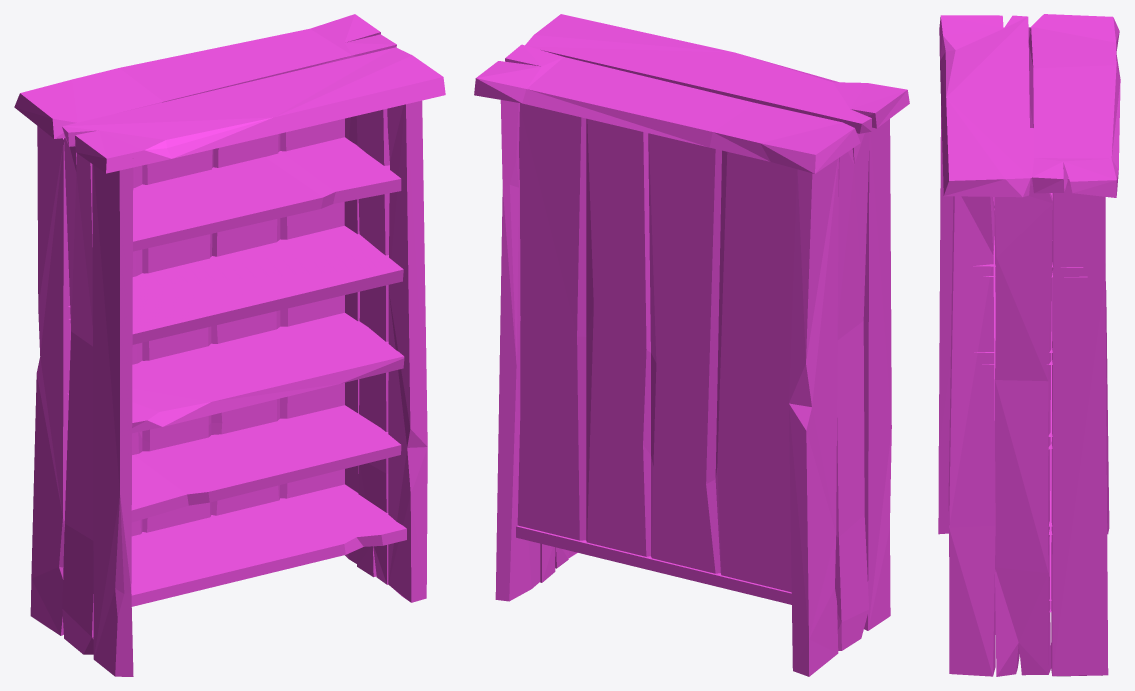
File: SM_Shelf_Standing_Tall_C_Fantasy.fbx
3 views of the same model, side by side, from view 1: azimuth 30°, elevation 25°; view 2: azimuth 150°, elevation 25°; view 3: azimuth 270°, elevation 25° (orthographic). The views are drawn at different scales.
Parts seen in each view (by area): view 1: SM_Shelf_Standing_Tall_C_Fantasy; view 2: SM_Shelf_Standing_Tall_C_Fantasy; view 3: SM_Shelf_Standing_Tall_C_Fantasy.
Part boxes in pixels (x1,y1,x2,y2): SM_Shelf_Standing_Tall_C_Fantasy: [14, 14, 445, 676]; SM_Shelf_Standing_Tall_C_Fantasy: [474, 14, 909, 676]; SM_Shelf_Standing_Tall_C_Fantasy: [938, 14, 1120, 676].
Bounding box in the file's own units: 1.5 × 2.18 × 0.7077.
